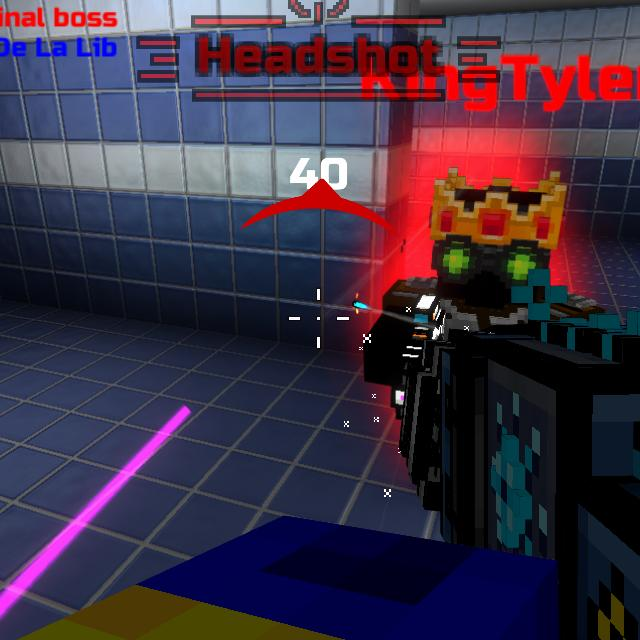Enemy: (359, 185, 601, 395)
